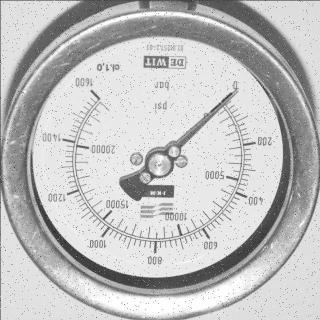gauge: (0, 0, 320, 320), (77, 77, 107, 107), (211, 82, 243, 110), (146, 150, 173, 178), (232, 86, 242, 96)
